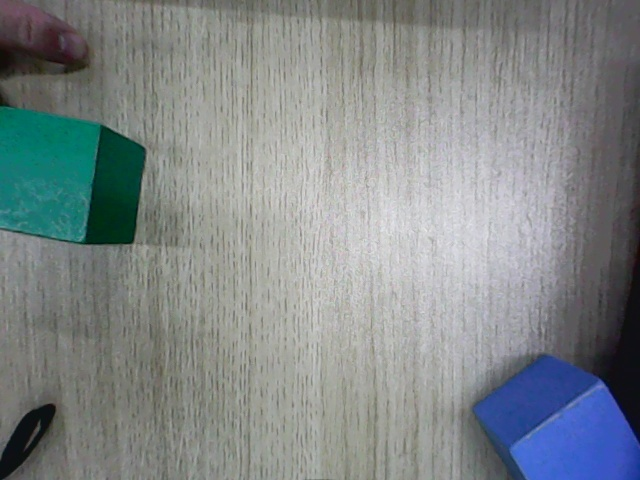upside of big cube: (1, 107, 105, 244), (508, 382, 639, 479)
